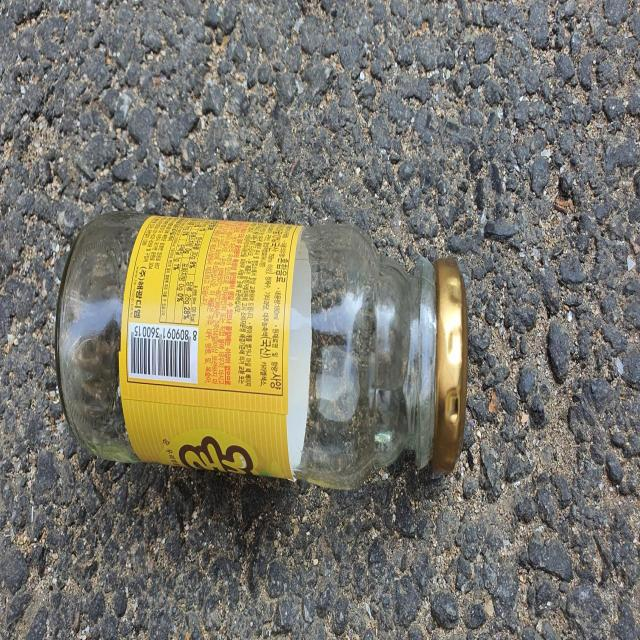glass: (55, 211, 468, 489)
